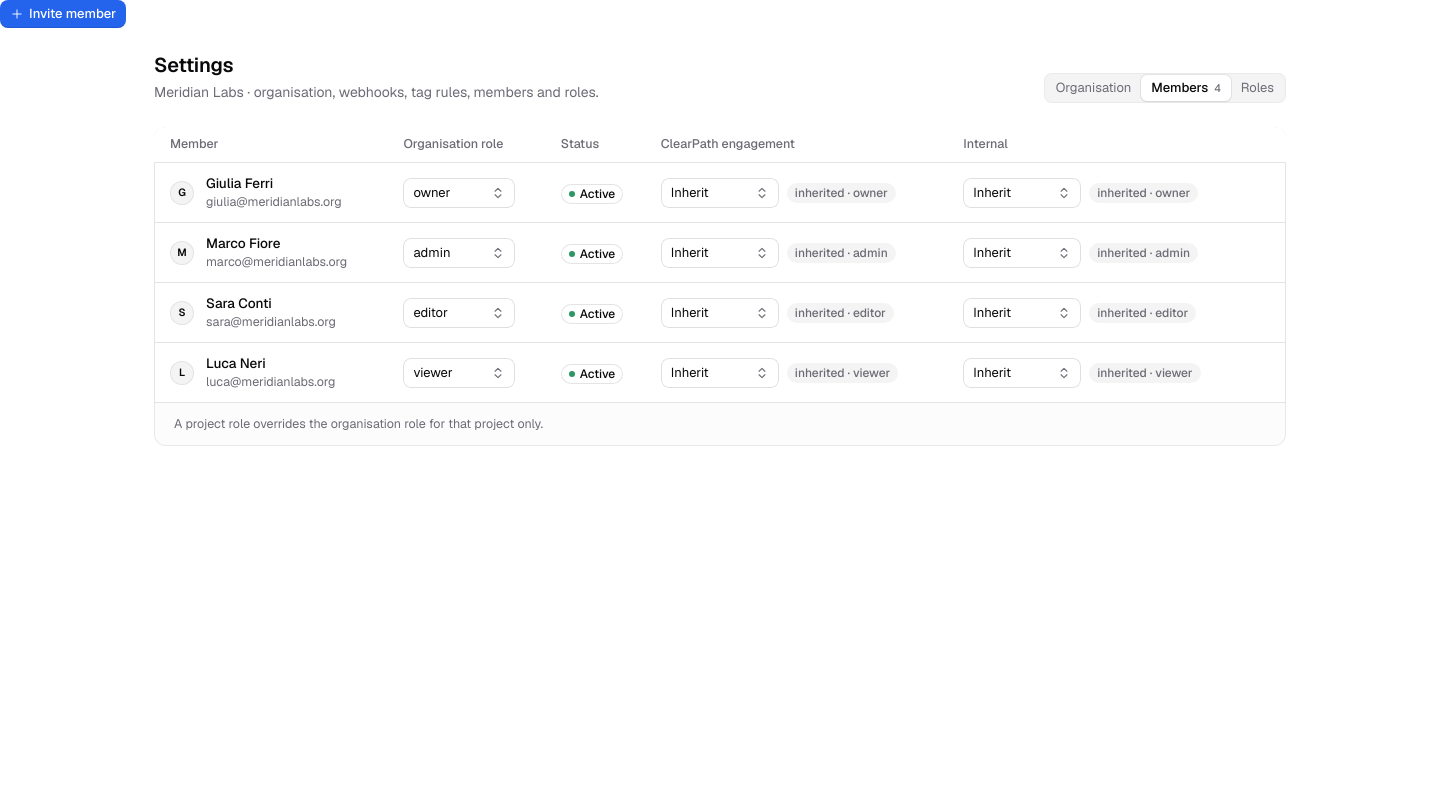
it: Settings › Invite member › invites the member, refreshes and closes the dialog
expect the text "Giulia Ferri" is shown: met, box [206,174,273,192]
Click the button "Invite member": [63, 14] box [0,0,126,28]
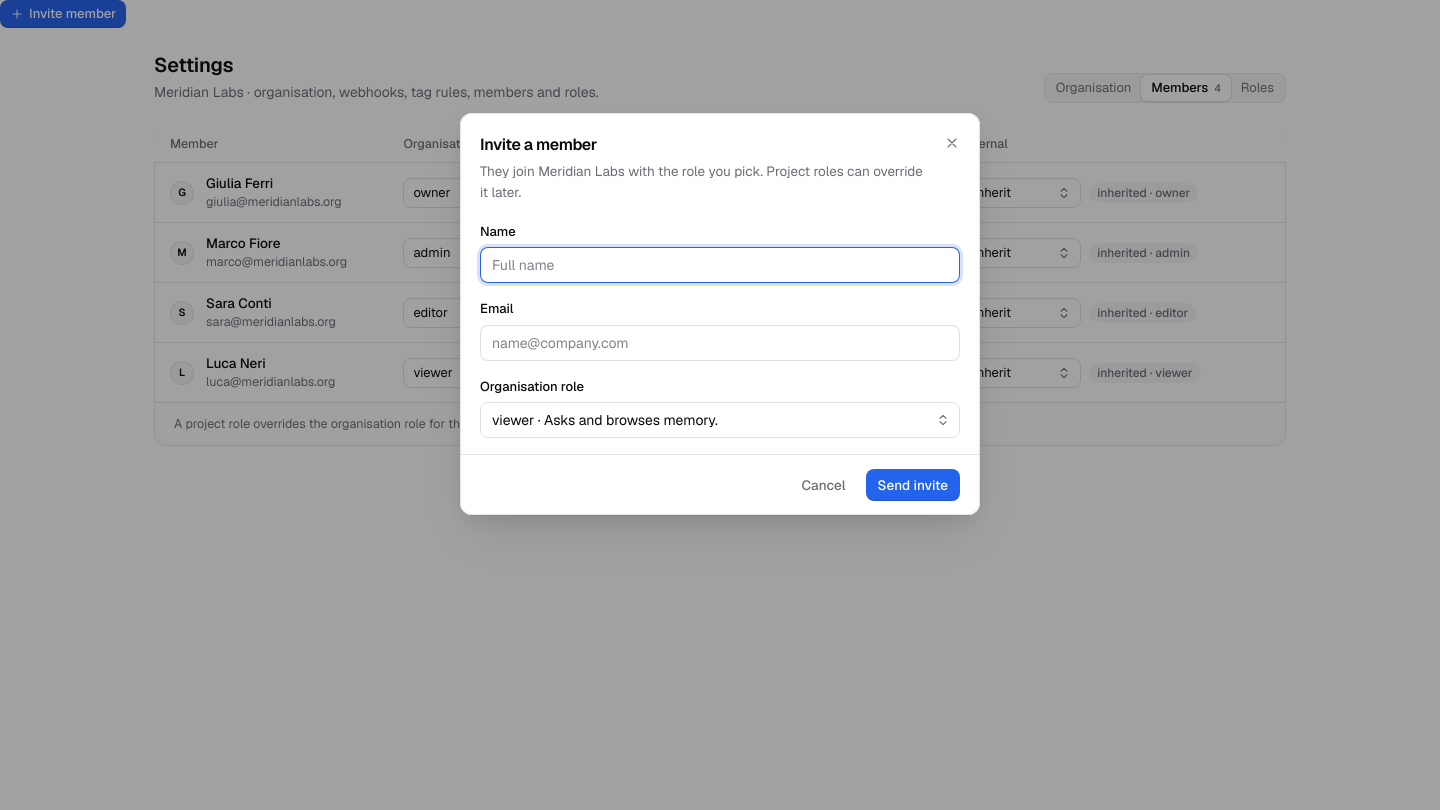
In the field labelled "Name": [720, 265] box [480,247,960,283], type "Nina Russo"
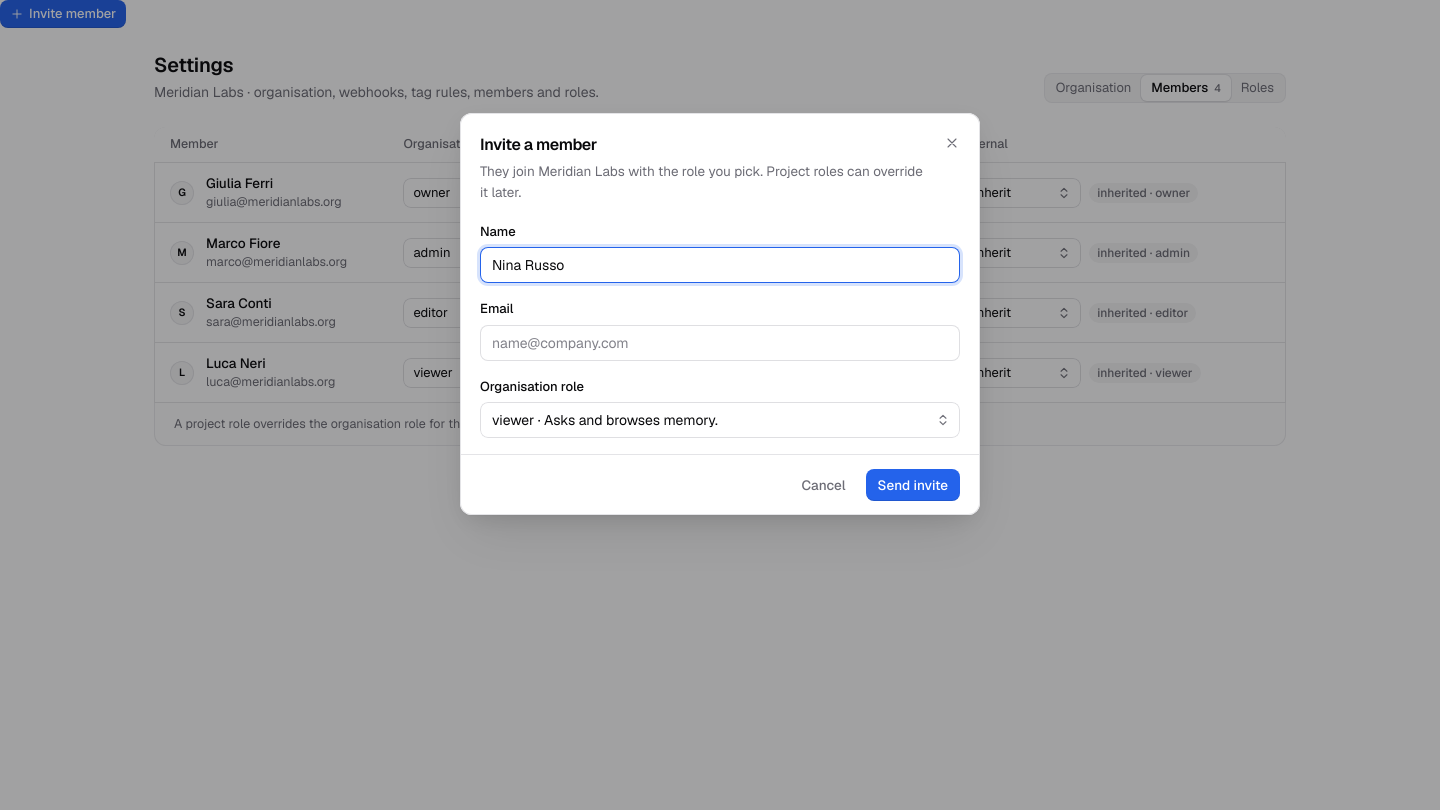
In the field labelled "Email": [720, 343] box [480,325,960,361], type "nina@meridianlabs.org"
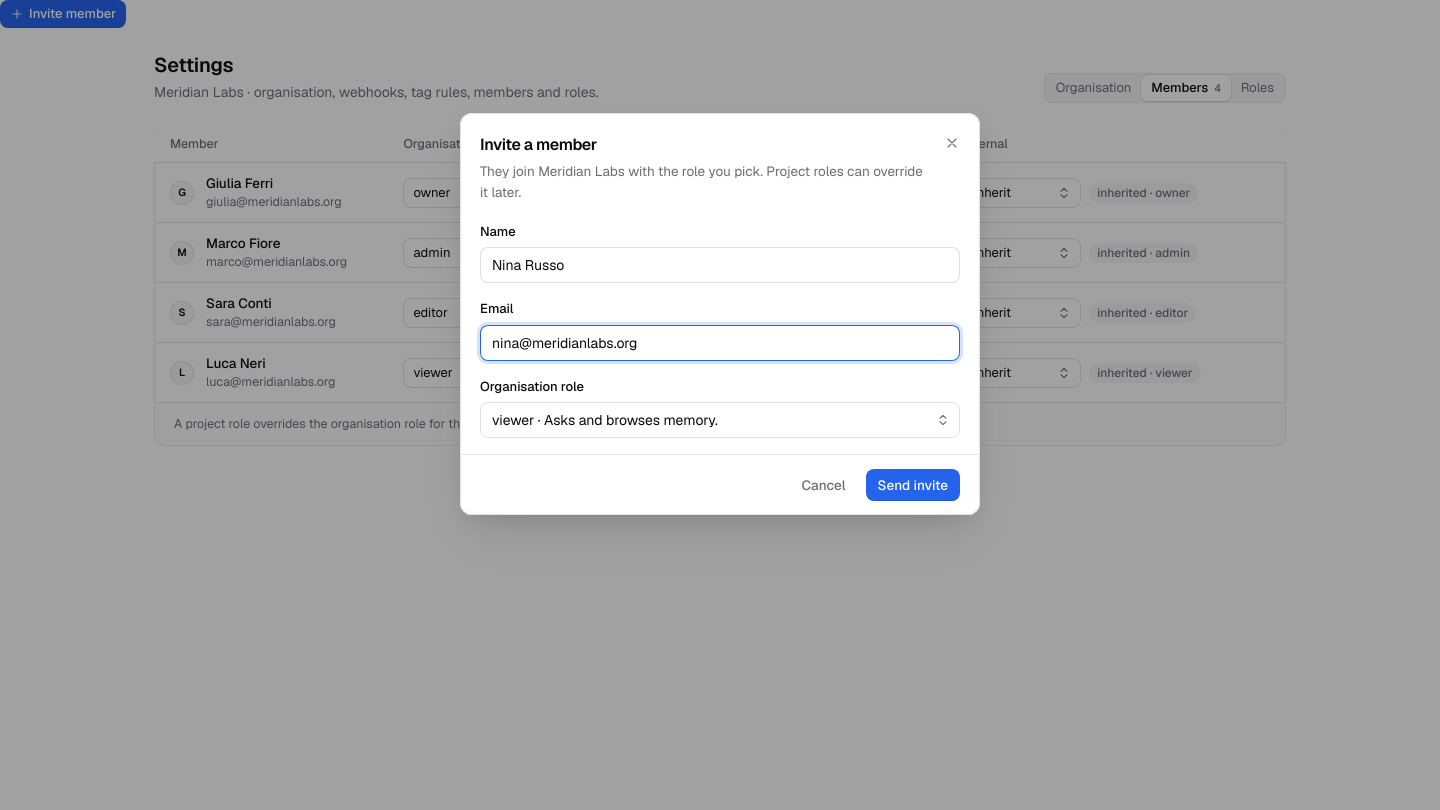
Click the button "Send invite": [913, 485] box [866,469,960,501]
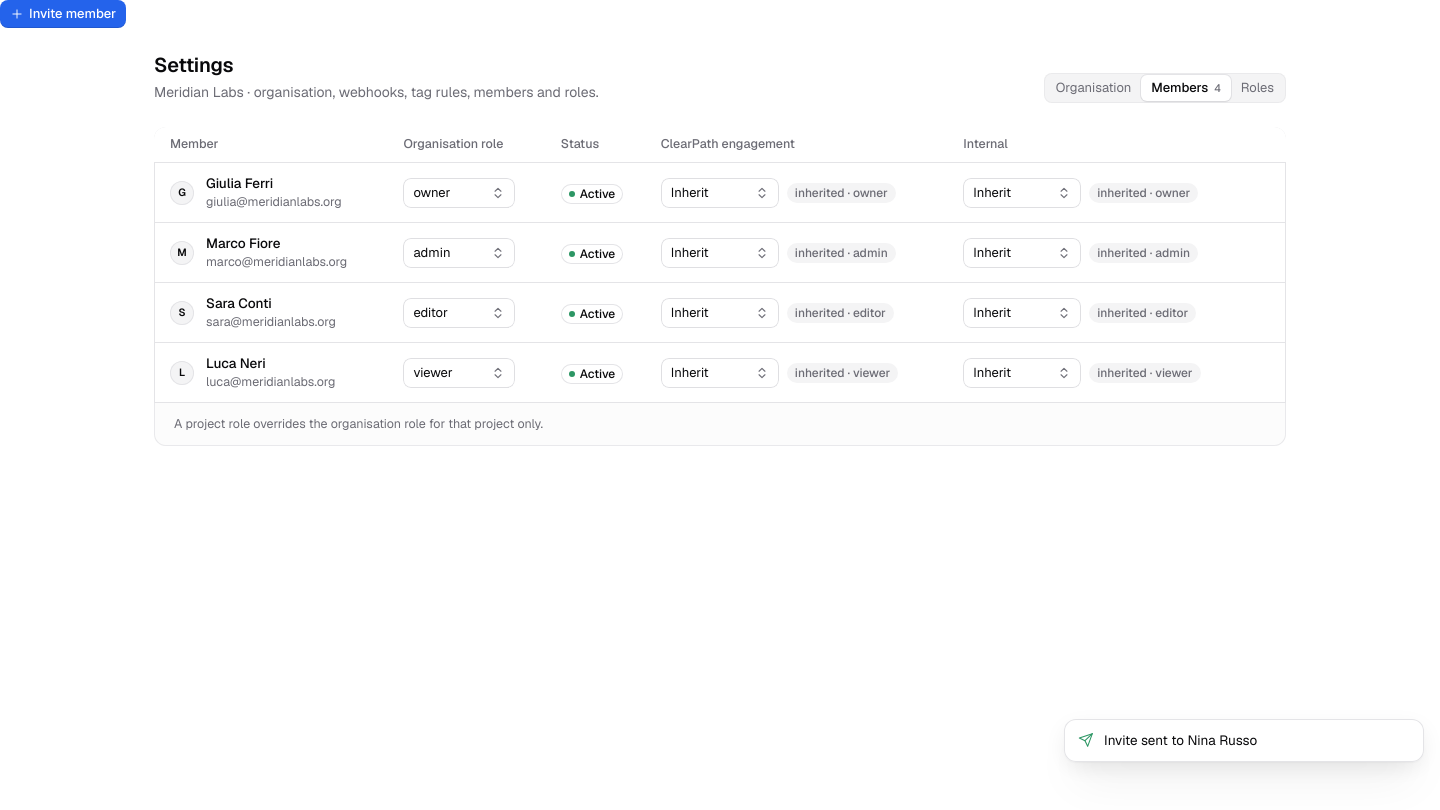
expect the text "Invite sent to Nina Russo" is shown: met, box [1104,731,1257,749]
expect the dialog is gone: met
